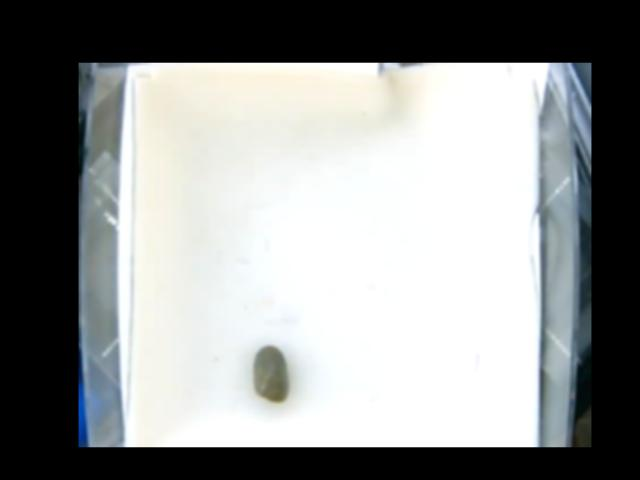Pebble: (254, 343, 289, 403)
